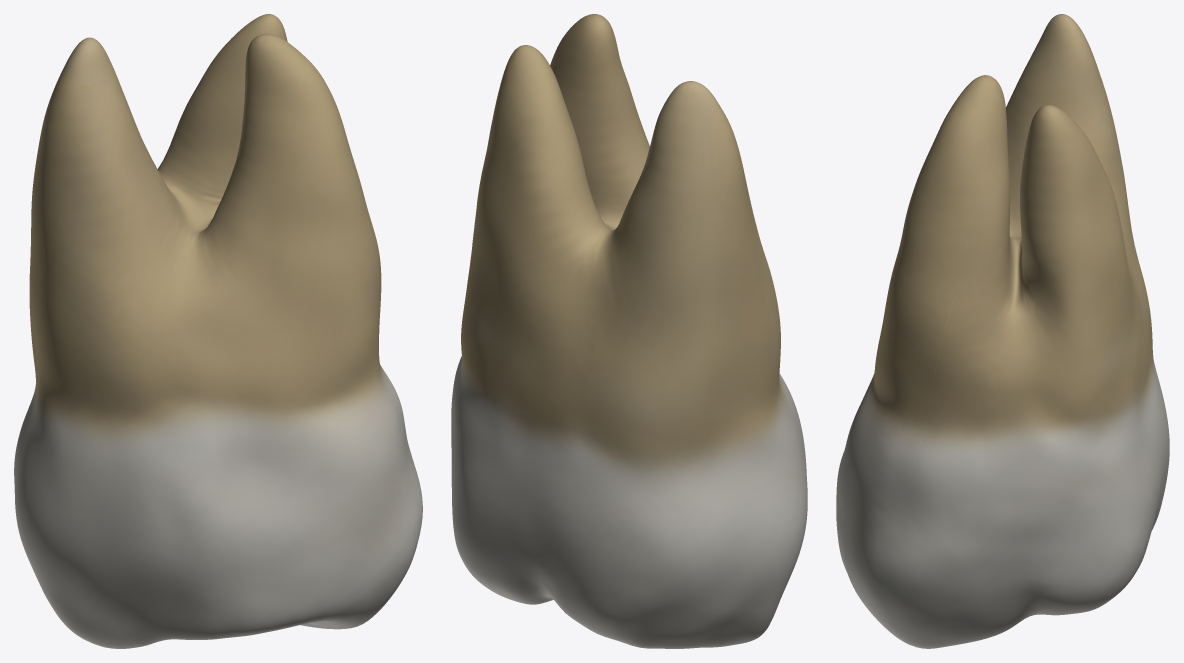
File: maxillary_third_molar.glb
3 renders of one model, left to right at view 1: azimuth 30°, elevation 25°; view 2: azimuth 150°, elevation 25°; view 3: azimuth 270°, elevation 25°, orthographic. The views are drawn at different scales.
Visible parts, largest first — view 1: Object_2; view 2: Object_2; view 3: Object_2.
Boxes of the visible parts, x1,y1,x2,y2 form: Object_2: [14, 14, 422, 648]; Object_2: [451, 14, 807, 648]; Object_2: [836, 14, 1169, 648].
Bounding box in the file's own units: 0.9412 × 1.55 × 0.848.
Materials: 1 (1 with a texture image).
